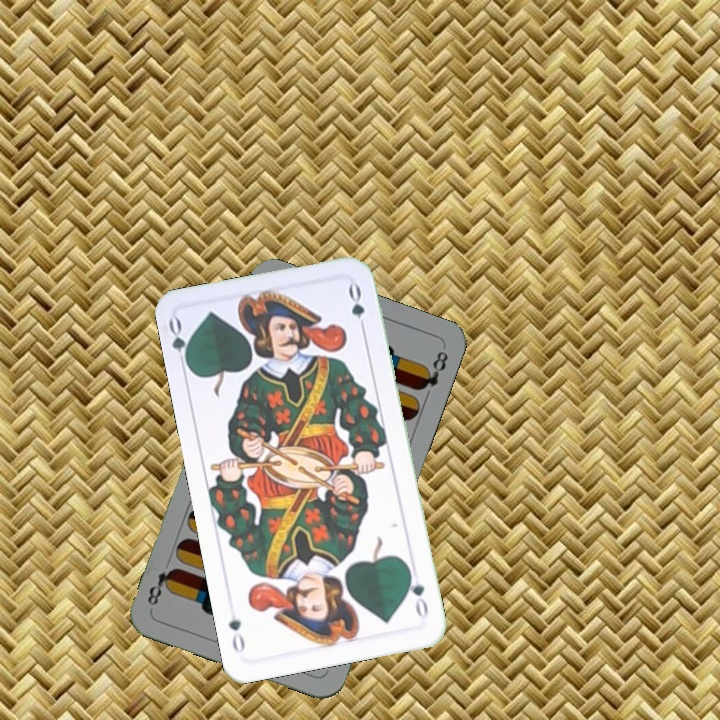GO: (164, 314, 194, 373), (404, 565, 431, 622)
